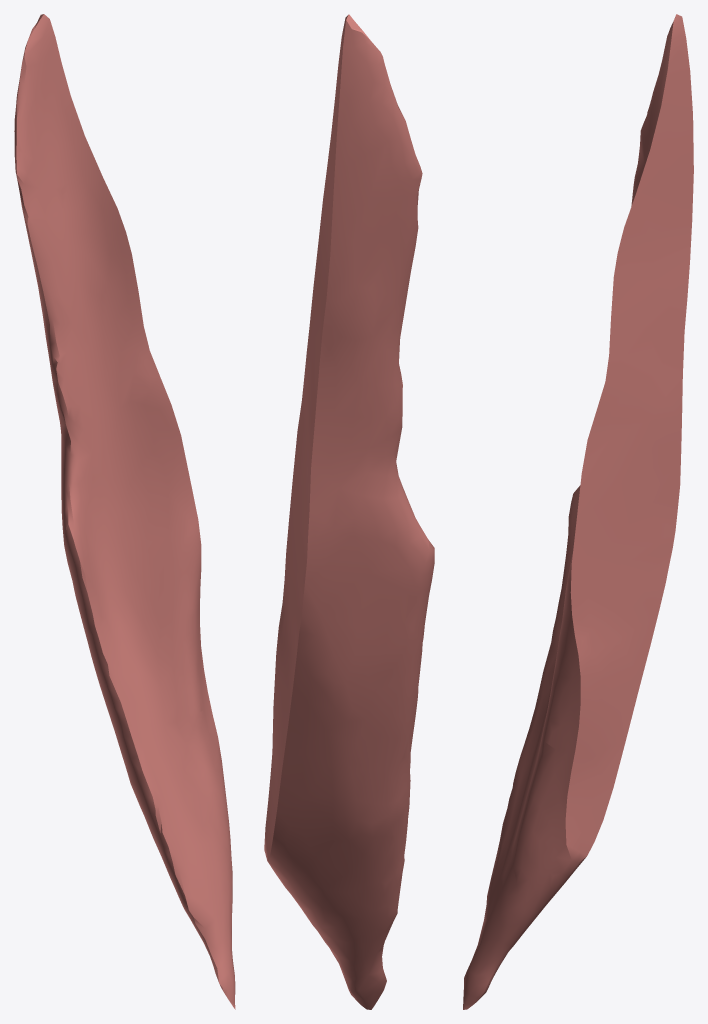
Rendered from fma38729-f_mm1818m.glb.
3 views of the same model, side by side, from view 1: azimuth 30°, elevation 25°; view 2: azimuth 150°, elevation 25°; view 3: azimuth 270°, elevation 25° (orthographic). The views are drawn at different scales.
Parts seen in each view (by area): view 1: FMA38729-F_MM1818M; view 2: FMA38729-F_MM1818M; view 3: FMA38729-F_MM1818M.
Boxes of the visible parts, <box> form: FMA38729-F_MM1818M: <box>14,14,235,1009</box>; FMA38729-F_MM1818M: <box>264,14,434,1009</box>; FMA38729-F_MM1818M: <box>463,14,693,1009</box>.
Size of the model in its own units: 0.0134 by 0.0708 by 0.0155.
